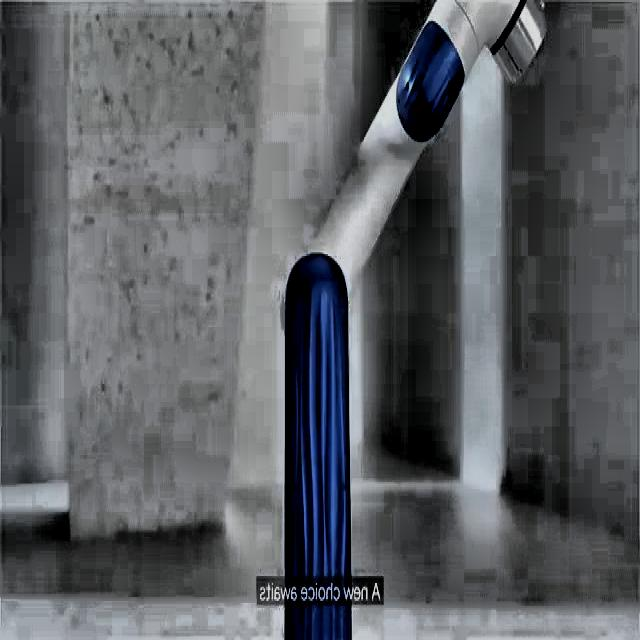robot: (282, 0, 549, 636)
